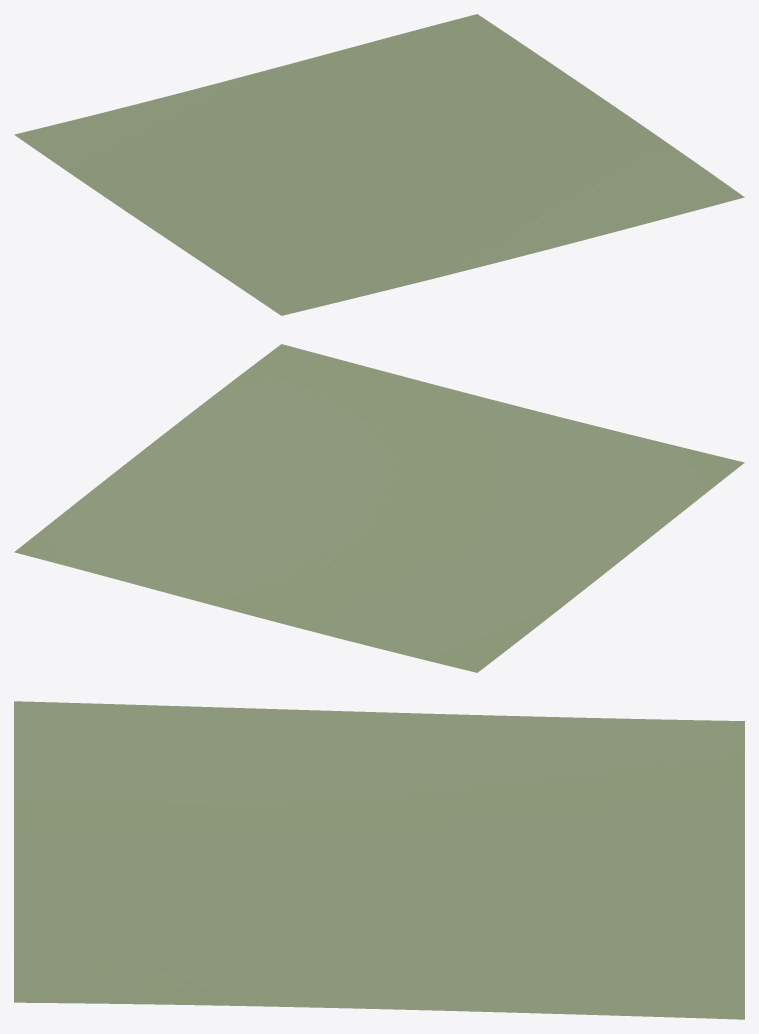
File: expanse-8-12.glb
The picture shows the model from 3 angles, top to bottom: view 1: azimuth 30°, elevation 25°; view 2: azimuth 150°, elevation 25°; view 3: azimuth 270°, elevation 25°; orthographic projection. The views are drawn at different scales.
Visible parts, largest first — view 1: expanse-8-12; view 2: expanse-8-12; view 3: expanse-8-12.
Boxes of the visible parts, x1,y1,x2,y2 form: expanse-8-12: [14, 14, 744, 315]; expanse-8-12: [14, 344, 744, 672]; expanse-8-12: [14, 701, 744, 1019].
Size of the model in its own units: 256 by 10.58 by 256.
